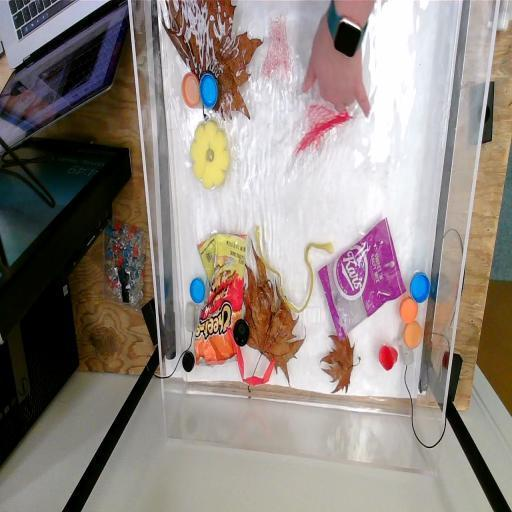Bottle Cap: (198, 70, 218, 111), (408, 270, 430, 306), (232, 314, 252, 352), (179, 70, 200, 106), (399, 295, 419, 326), (404, 322, 424, 352), (188, 274, 205, 306), (182, 348, 196, 374)
Cone Cap: (374, 341, 400, 375)
Leaf: (161, 0, 260, 122), (243, 244, 307, 390), (318, 329, 366, 400)
Netting: (296, 102, 354, 160), (262, 11, 294, 90)
Plastic Bag: (318, 222, 402, 336), (194, 228, 250, 370)
Plastic Strand: (252, 222, 332, 318), (225, 328, 277, 386)
Sponge: (188, 118, 232, 196)
